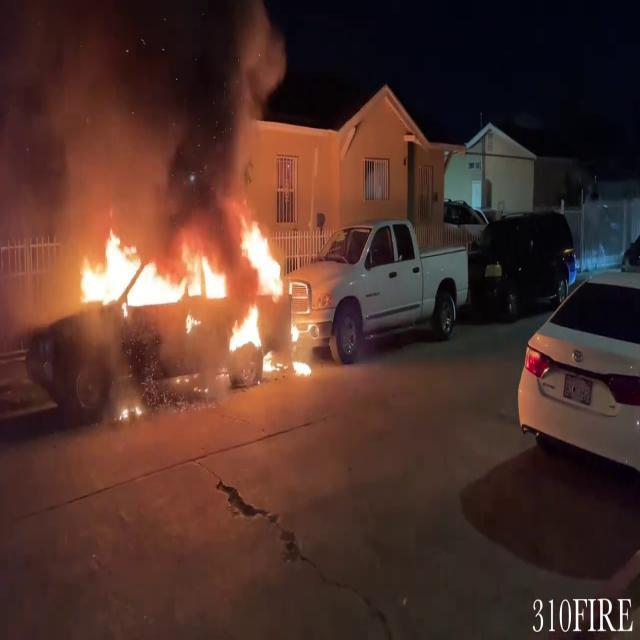Fire: (73, 207, 299, 374)
Smoke: (0, 0, 289, 284)
